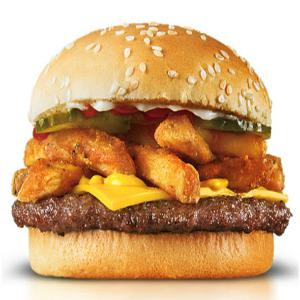cheeseburger_475cal: (10, 13, 288, 295)
